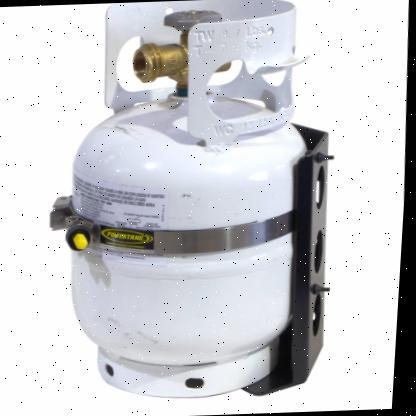gas-tank: (31, 0, 352, 410)
